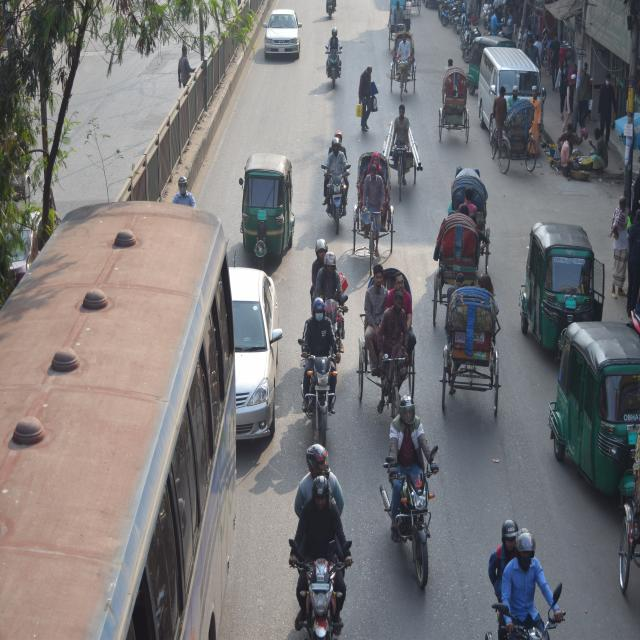bus: (6, 204, 229, 640)
car: (229, 266, 281, 460), (262, 4, 298, 70)
microbus: (477, 50, 543, 145)
motorbike: (376, 444, 447, 603), (288, 529, 344, 640), (300, 332, 336, 438), (323, 155, 349, 231), (319, 44, 341, 102)
